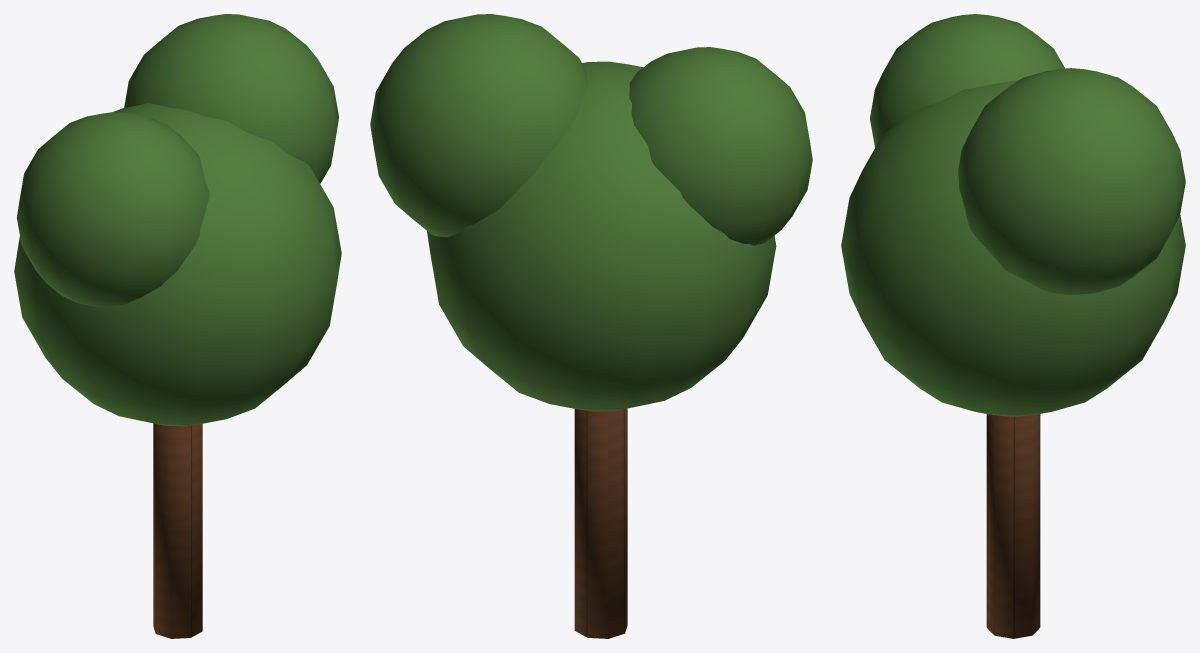
File: drzewo.glb
The picture shows the model from 3 angles, left to right: view 1: azimuth 30°, elevation 25°; view 2: azimuth 150°, elevation 25°; view 3: azimuth 270°, elevation 25°; orthographic projection. The views are drawn at different scales.
Visible parts, largest first — view 1: drzewo; view 2: drzewo; view 3: drzewo.
Part boxes in pixels (<box>): drzewo: <box>14,14,341,638</box>; drzewo: <box>370,14,812,638</box>; drzewo: <box>841,14,1185,638</box>.
Bounding box in the file's own units: 2.15 × 3.4 × 1.8.
2 materials, 1 textured.
